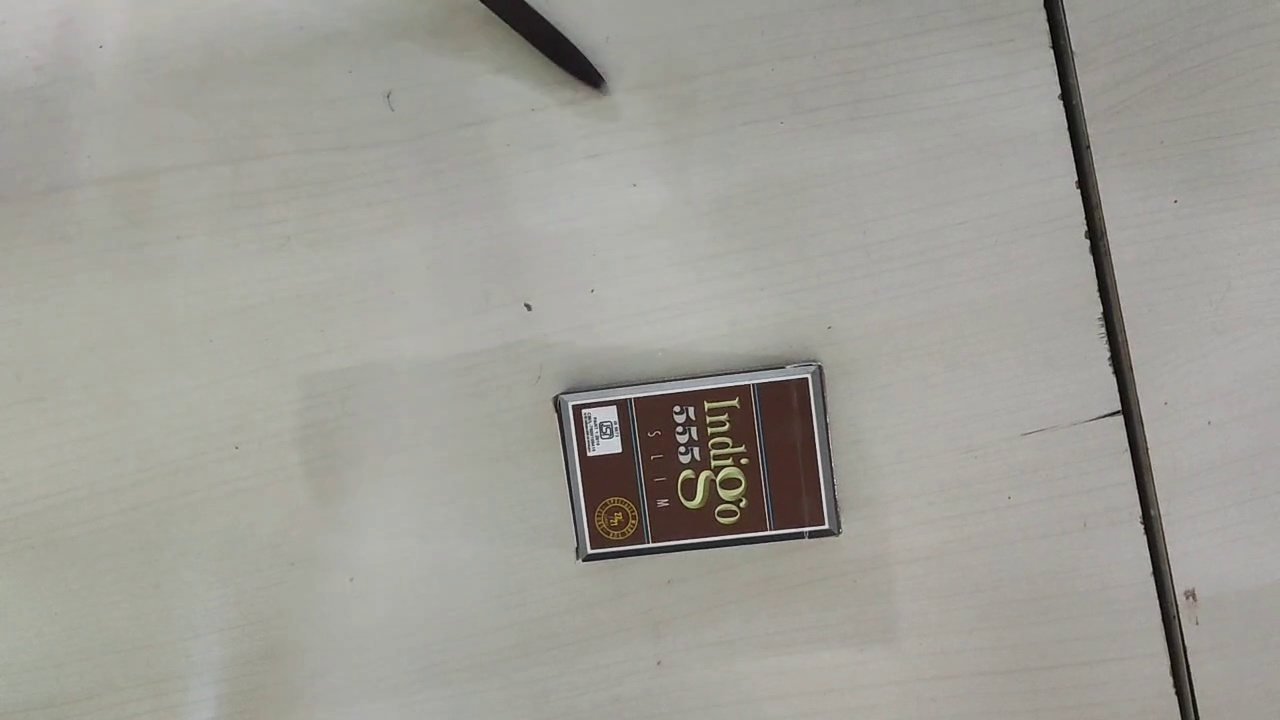BEX: (570, 373, 827, 550)
